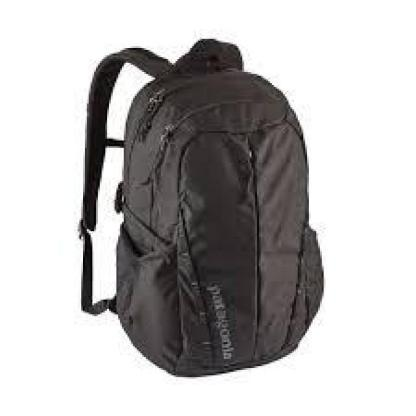bag: (73, 27, 331, 385)
